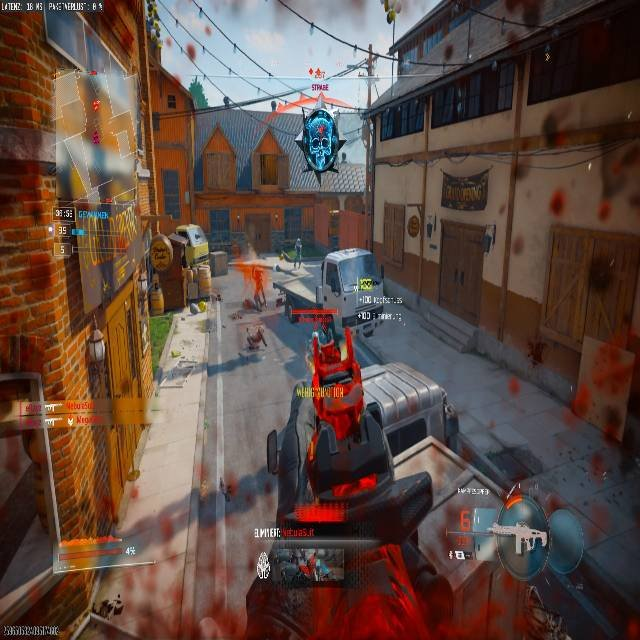player: (246, 325, 266, 350), (293, 236, 303, 261)
